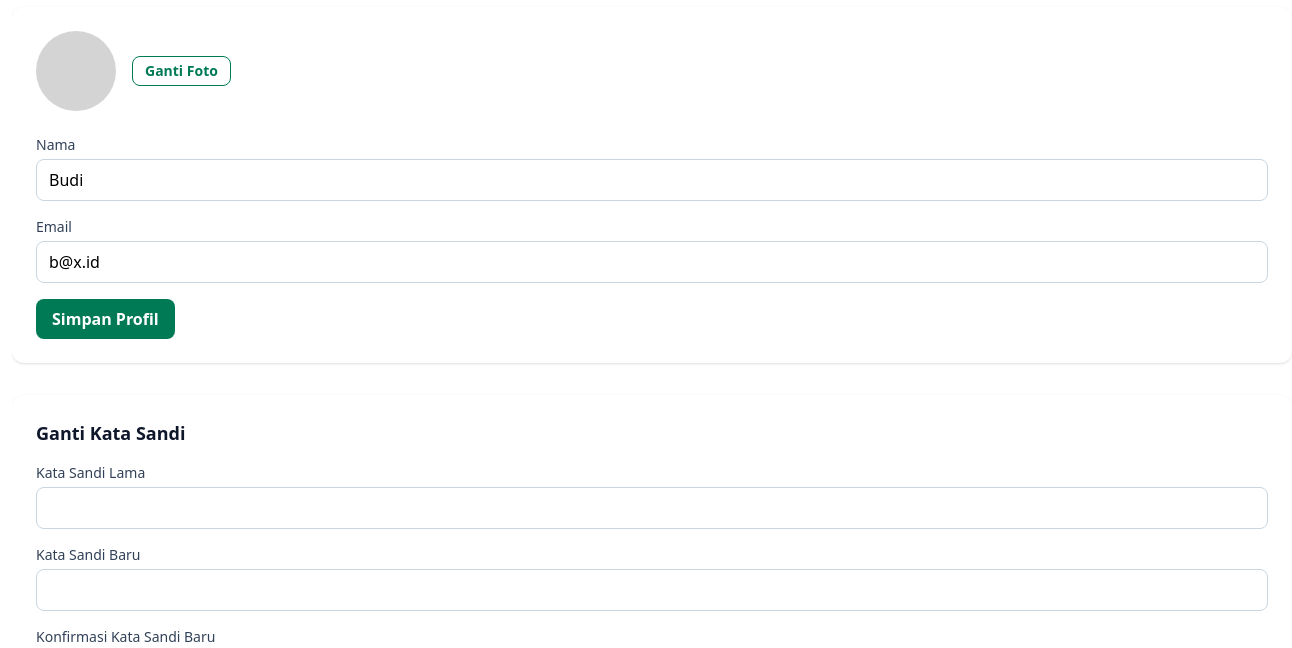
Scenario: ProfilePage › ganti sandi: validasi
This screenshot has width=1292, height=648.
Type "baru" into the password field with id "newPassword". click: (652,590)
box: [36, 569, 1268, 611]
(page scrolled)
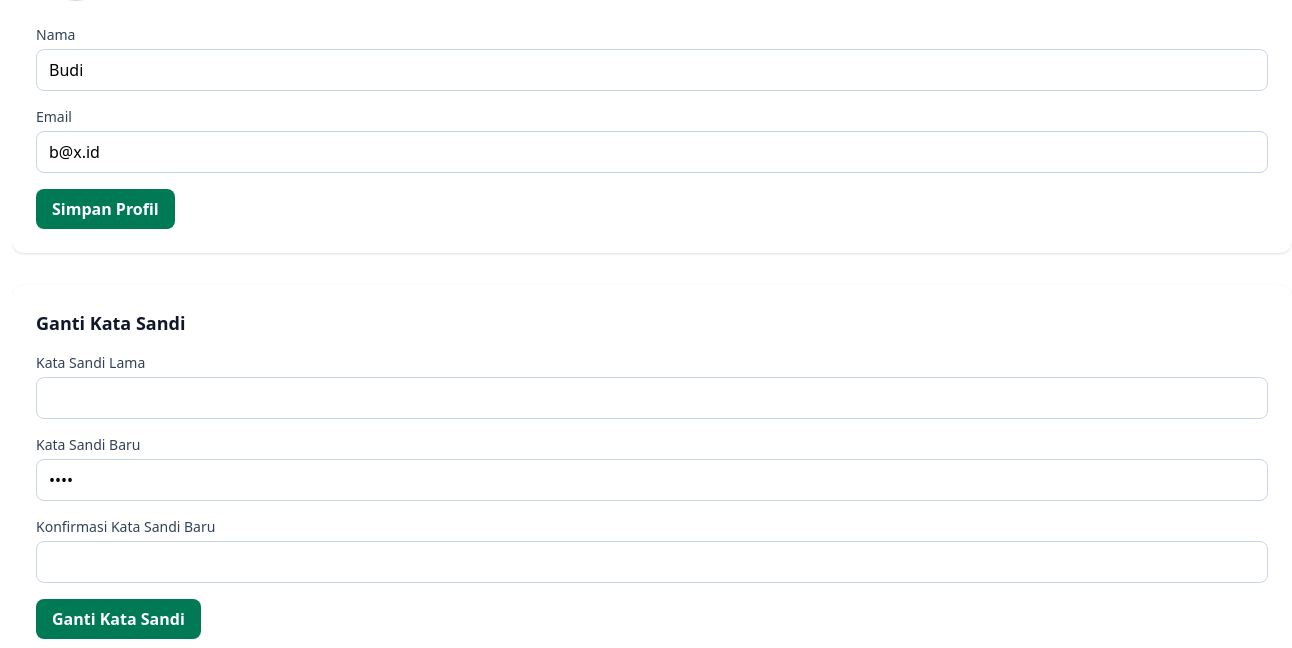
Submit the form that starts with "Kata Sandi Lama", box [36, 353, 1268, 639]
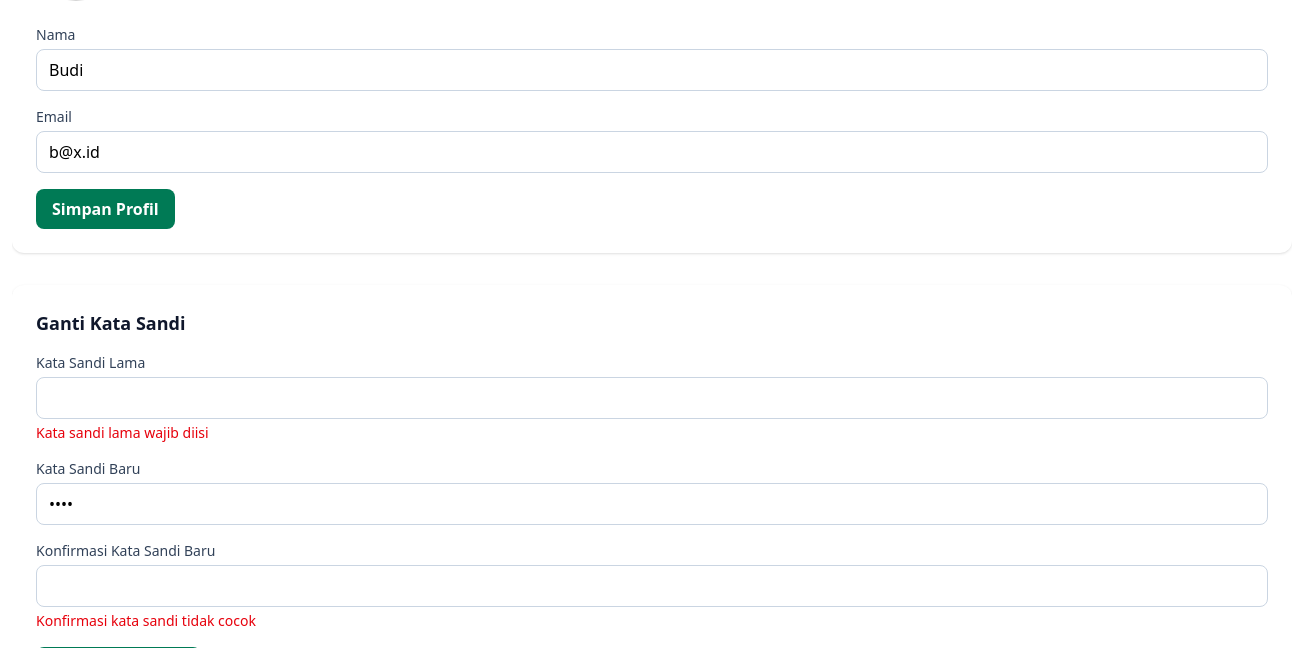
Expected: the text "Kata sandi lama wajib diisi" is shown, [36, 423, 209, 442]
Expected: the text "Konfirmasi kata sandi tidak cocok" is shown, [36, 611, 256, 630]
Clear the password field with id "newPassword". click: (652,504)
box: [36, 483, 1268, 525]
(page scrolled)
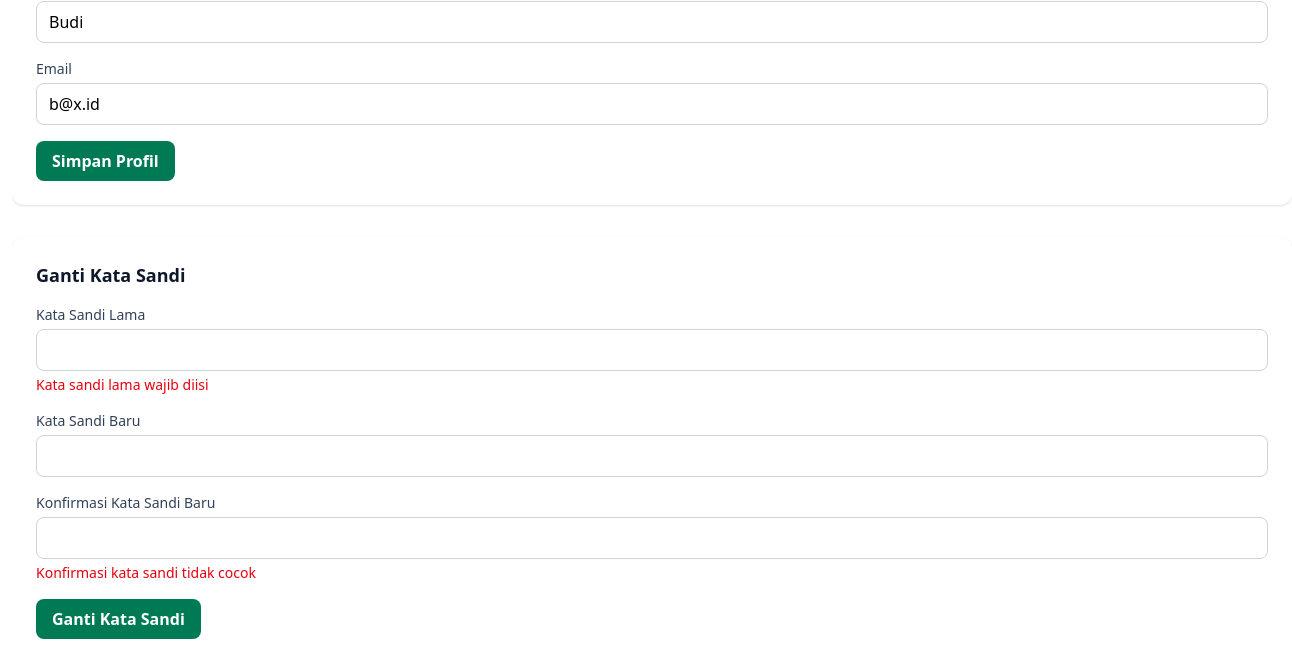
Submit the form that starts with "Kata Sandi Lama", box [36, 305, 1268, 639]
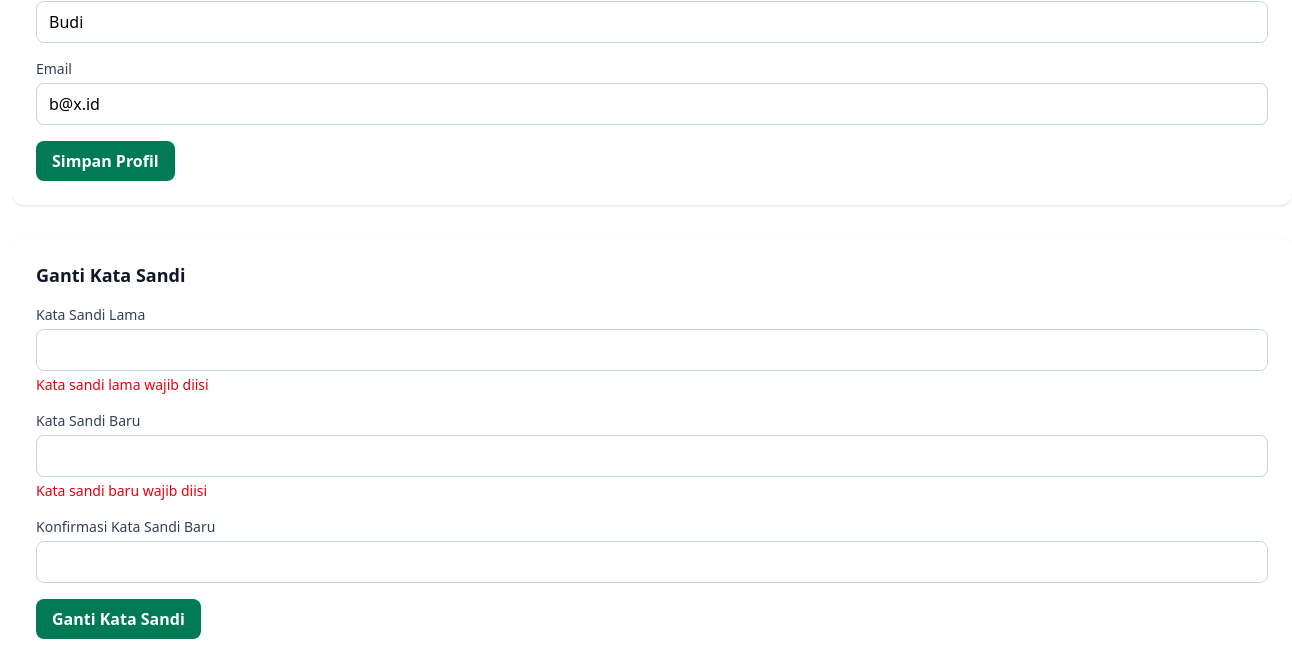
Expected: the text "Kata sandi baru wajib diisi" is shown, [36, 481, 207, 500]
